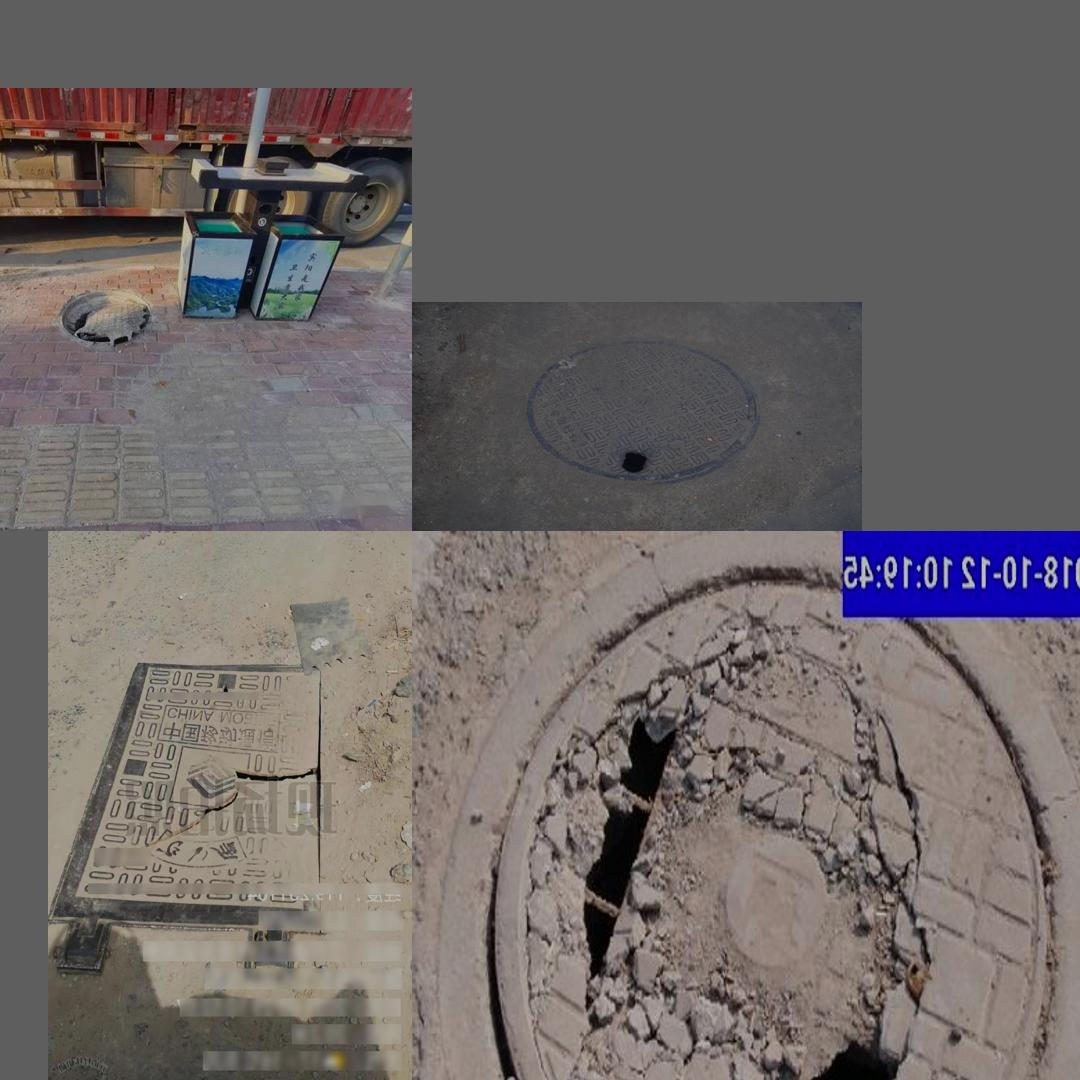broke: (463, 584, 1070, 1080), (48, 661, 328, 981), (524, 339, 757, 486), (48, 275, 166, 367)
